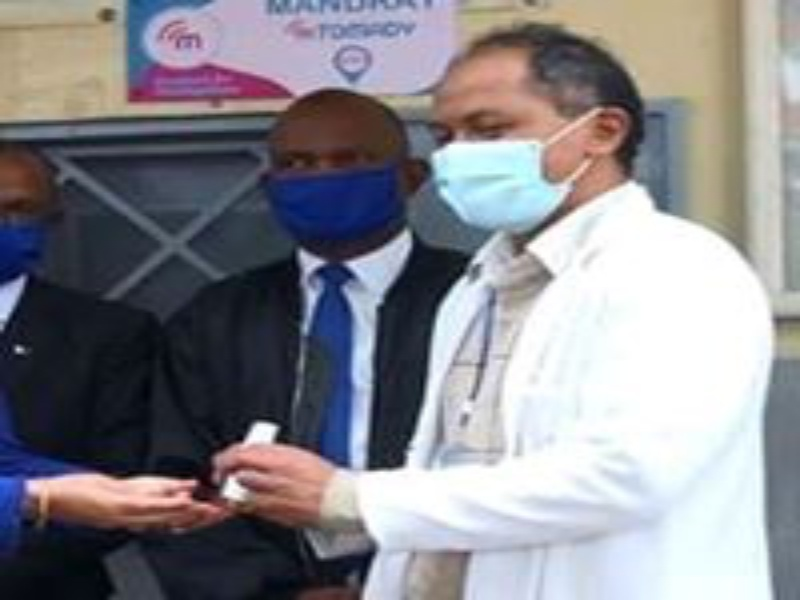ManaoArotava: (416, 34, 605, 249), (247, 95, 418, 249)
